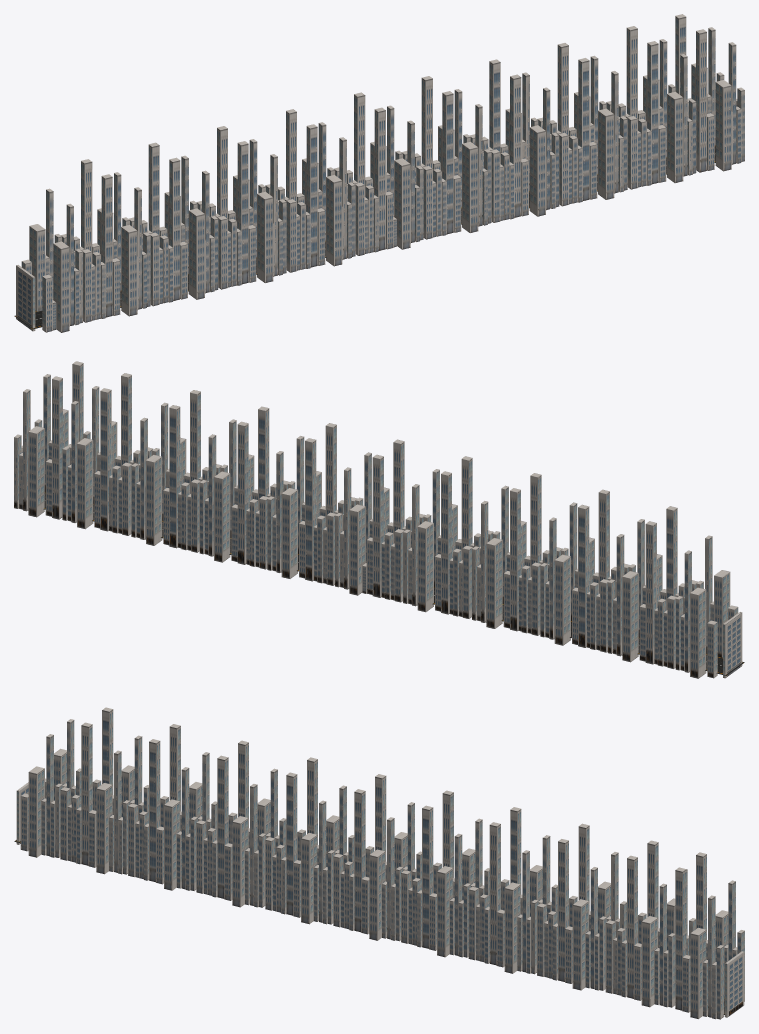
The model's file is city.obj.
The picture shows the model from 3 angles, top to bottom: view 1: azimuth 30°, elevation 25°; view 2: azimuth 150°, elevation 25°; view 3: azimuth 330°, elevation 25°; orthographic projection.
Visible parts, largest first — view 1: Buildings building215, Buildings building156, Buildings building62, Buildings building203, Buildings building3, Buildings building84, Buildings building123, Buildings building192, Buildings building40, Buildings building94, Buildings building113, Buildings building141 (+53 smaller); view 2: Buildings building137, Buildings city:building19, Buildings building35, Buildings building208, Buildings building167, Buildings building79, Buildings building19, Buildings building57, Buildings building158, Buildings building205, Buildings building23, Buildings building82 (+53 smaller); view 3: Buildings building113, Buildings building28, Buildings building141, Buildings building146, Buildings building215, Buildings building8, Buildings city:building8, Buildings building160, Buildings building72, Buildings building50, Buildings building194, Buildings building40 (+56 smaller).
Boxes of the visible parts, bbox=[...] form: Buildings building215: bbox=[696, 29, 706, 172]; Buildings building156: bbox=[188, 208, 204, 299]; Buildings building62: bbox=[598, 108, 614, 199]; Buildings building203: bbox=[715, 80, 731, 171]; Buildings building3: bbox=[462, 141, 478, 232]; Buildings building84: bbox=[667, 91, 683, 182]; Buildings building123: bbox=[257, 191, 273, 282]; Buildings building192: bbox=[121, 225, 137, 316]; Buildings building40: bbox=[529, 125, 545, 216]; Buildings building94: bbox=[326, 175, 342, 266]; Buildings building113: bbox=[306, 124, 317, 267]; Buildings building141: bbox=[101, 174, 112, 317]; Buildings building137: bbox=[645, 521, 656, 664]; Buildings city:building19: bbox=[372, 454, 383, 597]; Buildings building35: bbox=[237, 421, 248, 564]; Buildings building208: bbox=[52, 376, 62, 519]; Buildings building167: bbox=[578, 504, 589, 647]; Buildings building79: bbox=[100, 388, 111, 531]; Buildings building19: bbox=[305, 438, 316, 581]; Buildings building57: bbox=[169, 405, 180, 548]; Buildings building158: bbox=[554, 554, 570, 645]; Buildings building205: bbox=[28, 426, 44, 517]; Buildings building23: bbox=[281, 487, 297, 578]; Buildings building82: bbox=[77, 438, 93, 529]; Buildings building113: bbox=[286, 772, 297, 915]; Buildings building28: bbox=[489, 822, 500, 965]; Buildings building141: bbox=[81, 722, 92, 865]; Buildings building146: bbox=[217, 755, 228, 898]; Buildings building215: bbox=[675, 867, 686, 1010]; Buildings building8: bbox=[422, 805, 433, 948]; Buildings city:building8: bbox=[354, 789, 365, 932]; Buildings building160: bbox=[149, 739, 160, 882]; Buildings building72: bbox=[627, 855, 637, 998]; Buildings building50: bbox=[558, 839, 568, 981]; Buildings building194: bbox=[28, 766, 44, 857]; Buildings building40: bbox=[504, 882, 520, 973].
Size of the model in its own units: 1428 by 266 by 111.
Materials: 2 (2 with a texture image).
